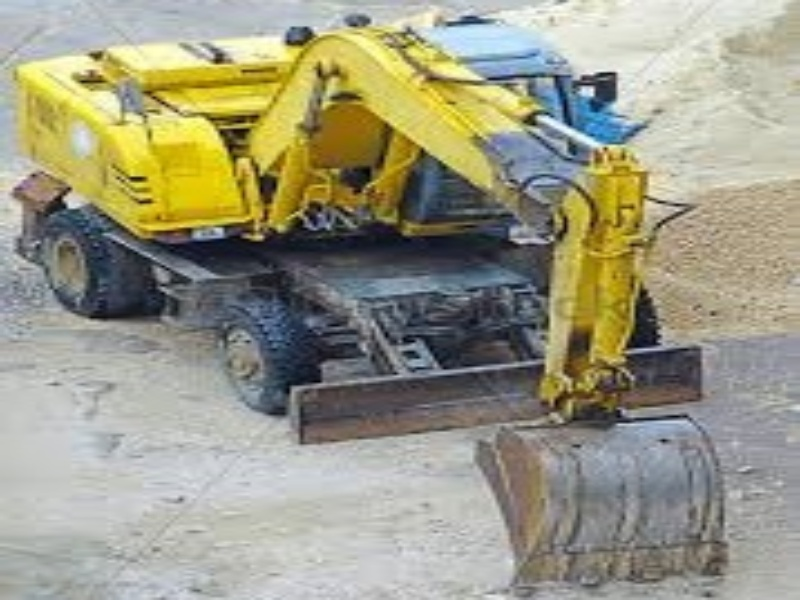wajueji: (15, 20, 738, 585)
